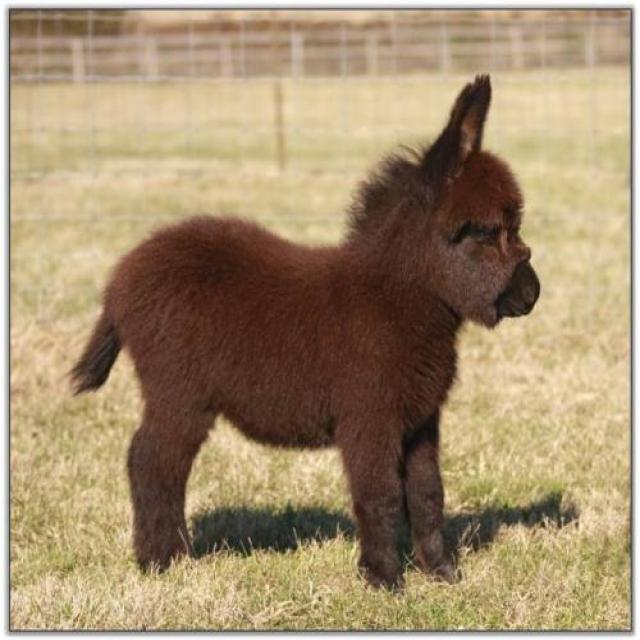Donkey: (69, 74, 540, 640)
